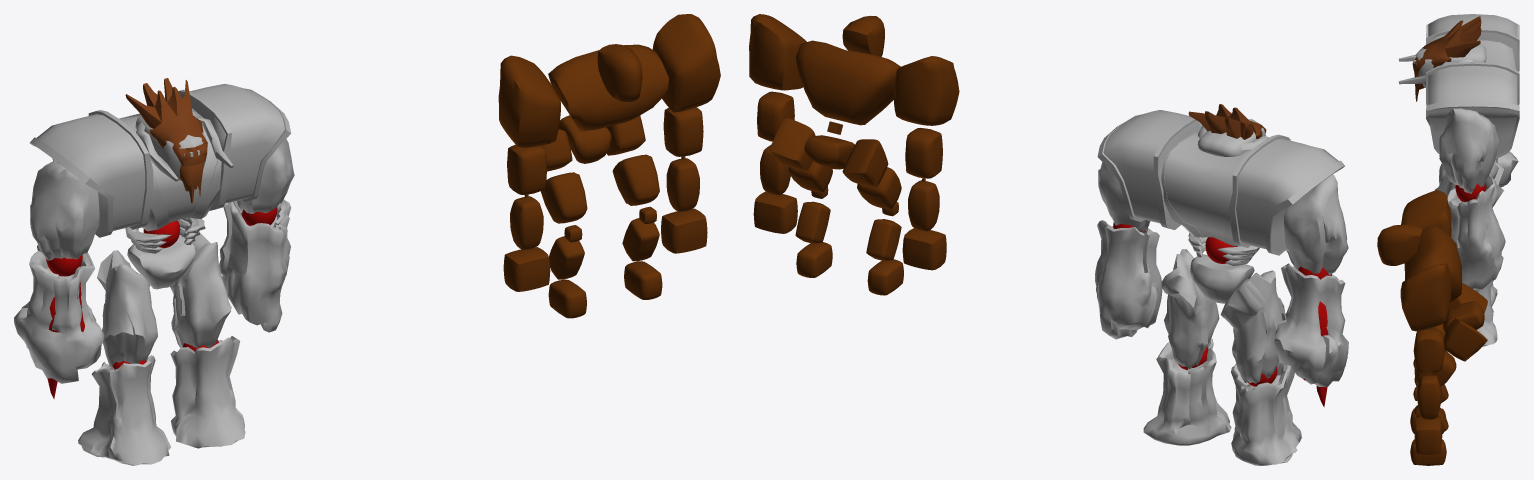
The model's file is golem v5.fbx.
The picture shows the model from 3 angles, left to right: view 1: azimuth 30°, elevation 25°; view 2: azimuth 150°, elevation 25°; view 3: azimuth 270°, elevation 25°; orthographic projection. The views are drawn at different scales.
Visible parts, largest first — view 1: Fist, Shoulder_Pad, Fist1, Foot, Foot1, Shoulder_Pad1, Chest, Shoulder8, Leg, Shoulder2, Leg1, Shoulder1 (+23 smaller); view 2: Fist, Fist1, Chest, Shoulder_Pad, Chest1, Foot1, Foot, Shoulder_Pad1, Leg, Shoulder8, Leg1, Shoulder1 (+23 smaller); view 3: Shoulder_Pad1, Fist1, Shoulder5, Shoulder2, Chest, StoneHead, Shoulder_Pad_Rim, Shoulder1, head, Shoulder_Pad, Bicep3, cube36 (+15 smaller).
Boxes of the visible parts, left/top/right/bottom form: Fist: left=14, top=245, right=104, bottom=383; Shoulder_Pad: left=31, top=114, right=145, bottom=234; Fist1: left=219, top=199, right=291, bottom=332; Foot: left=78, top=355, right=170, bottom=465; Foot1: left=170, top=336, right=245, bottom=448; Shoulder_Pad1: left=180, top=84, right=284, bottom=206; Chest: left=548, top=44, right=668, bottom=131; Shoulder8: left=30, top=161, right=99, bottom=260; Leg: left=97, top=250, right=157, bottom=366; Shoulder2: left=652, top=14, right=720, bottom=112; Leg1: left=170, top=232, right=231, bottom=348; Shoulder1: left=498, top=55, right=560, bottom=147; Fist: left=1274, top=263, right=1348, bottom=386; Fist1: left=1095, top=220, right=1162, bottom=339; Chest: left=796, top=40, right=900, bottom=125; Shoulder_Pad: left=1236, top=138, right=1343, bottom=252; Chest1: left=1161, top=132, right=1251, bottom=246; Foot1: left=1143, top=338, right=1231, bottom=445; Foot: left=1231, top=360, right=1302, bottom=465; Shoulder_Pad1: left=1103, top=110, right=1206, bottom=226; Leg: left=1220, top=270, right=1286, bottom=383; Shoulder8: left=1283, top=174, right=1348, bottom=275; Leg1: left=1161, top=249, right=1219, bottom=369; Shoulder1: left=894, top=56, right=959, bottom=125; Shoulder_Pad1: left=1428, top=65, right=1517, bottom=155; Fist1: left=1447, top=171, right=1505, bottom=290; Shoulder5: left=1438, top=108, right=1499, bottom=193; Shoulder2: left=1400, top=263, right=1451, bottom=331; Chest: left=1404, top=226, right=1461, bottom=302; StoneHead: left=1412, top=16, right=1481, bottom=73; Shoulder_Pad_Rim: left=1426, top=62, right=1519, bottom=159; Shoulder1: left=1401, top=190, right=1451, bottom=236; head: left=1377, top=224, right=1422, bottom=265; Shoulder_Pad: left=1428, top=14, right=1517, bottom=68; Bicep3: left=1413, top=328, right=1444, bottom=372; cube36: left=1443, top=318, right=1487, bottom=361.
Bounding box in the file's own units: 869 × 451 × 195.
